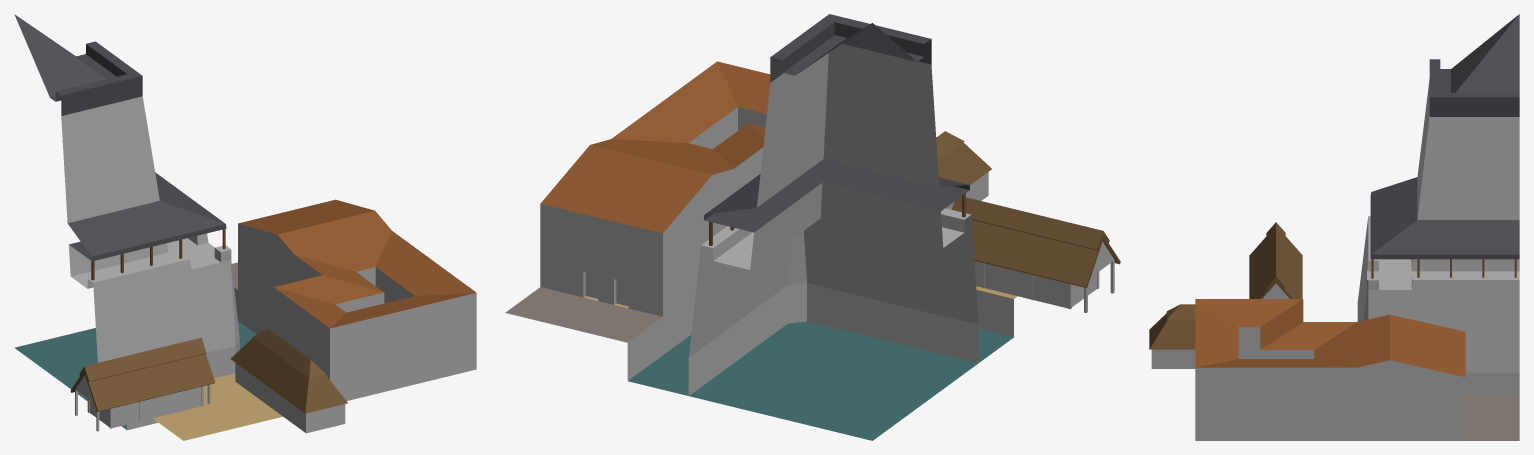
3 views of the same model, side by side, from view 1: azimuth 30°, elevation 25°; view 2: azimuth 150°, elevation 25°; view 3: azimuth 270°, elevation 25° (orthographic). The views are drawn at different scales.
Parts seen in each view (by area): view 1: cr21; view 2: cr21; view 3: cr21.
Part boxes in pixels (x1=…): cr21: x1=14, y1=14, x2=476, y2=440; cr21: x1=505, y1=14, x2=1120, y2=440; cr21: x1=1149, y1=14, x2=1519, y2=440.
Bounding box in the file's own units: 35.84 × 32.63 × 34.26.
